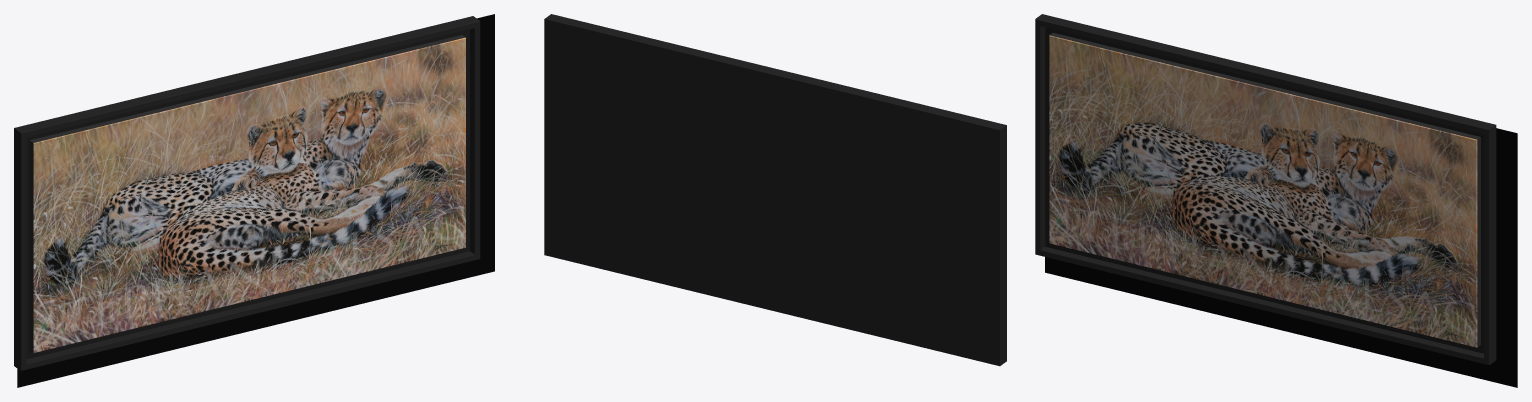
The model's file is tableau-toile-guepards-grand-bd4402b5.glb.
3 renders of one model, left to right at view 1: azimuth 30°, elevation 25°; view 2: azimuth 150°, elevation 25°; view 3: azimuth 330°, elevation 25°, orthographic.
Parts seen in each view (by area): view 1: Painting; view 2: Painting; view 3: Painting.
Part boxes in pixels (<box>): Painting: <box>14,14,494,387</box>; Painting: <box>544,14,1006,366</box>; Painting: <box>1035,14,1517,387</box>.
Size of the model in its own units: 1.56 by 0.806 by 0.04.
Materials: 5 (3 with a texture image).
